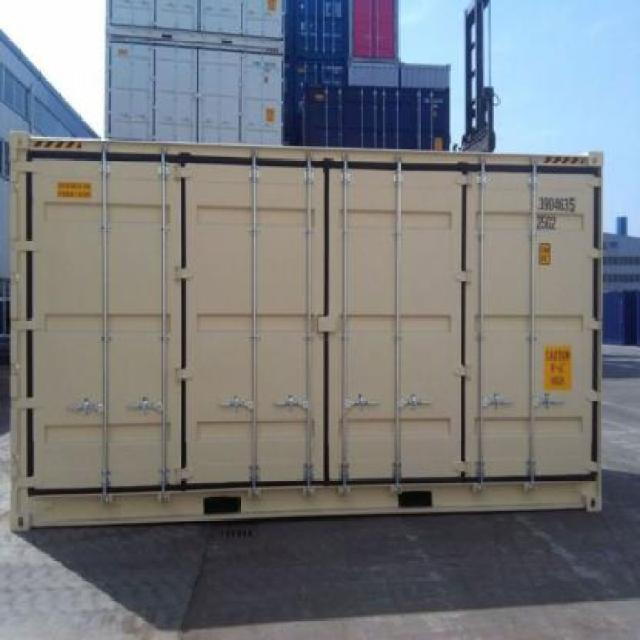ISO: (533, 214, 565, 237)
container_number: (537, 190, 583, 214)
